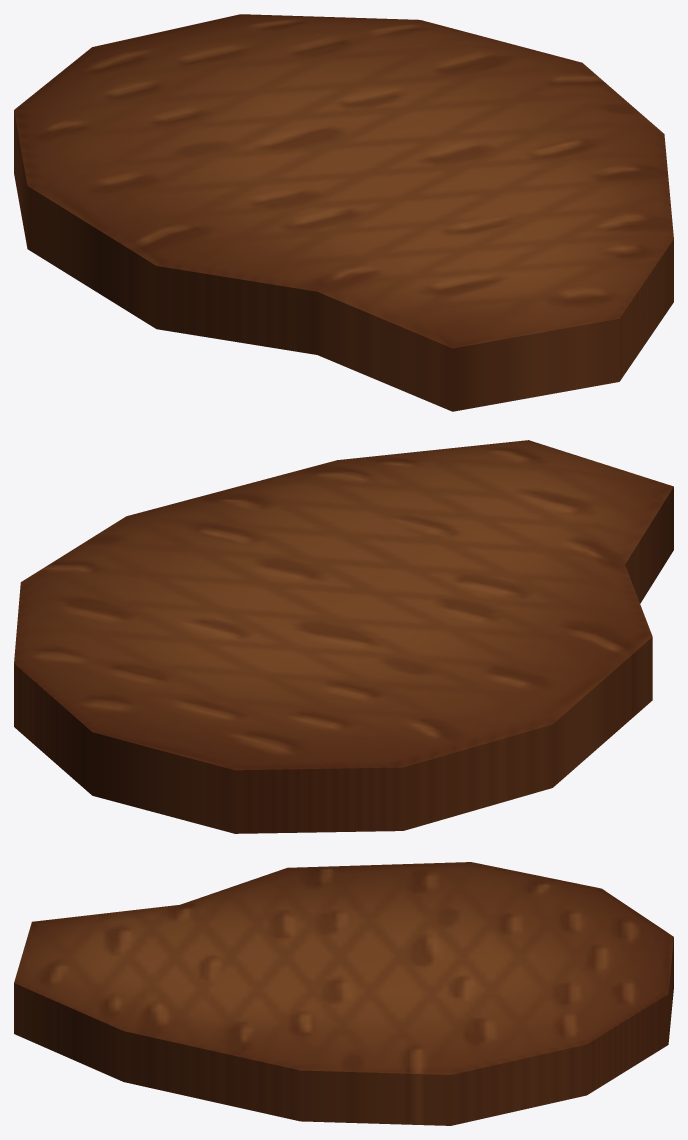
Rendered from kaorou_meat02.fbx.
3 renders of one model, top to bottom at view 1: azimuth 30°, elevation 25°; view 2: azimuth 150°, elevation 25°; view 3: azimuth 270°, elevation 25°, orthographic. The views are drawn at different scales.
Parts seen in each view (by area): view 1: kaorou_meat02; view 2: kaorou_meat02; view 3: kaorou_meat02.
Boxes of the visible parts, <box> form: kaorou_meat02: <box>14,14,673,411</box>; kaorou_meat02: <box>14,440,673,833</box>; kaorou_meat02: <box>14,862,673,1125</box>.
Bounding box in the file's own units: 37.75 × 5.34 × 49.43.
